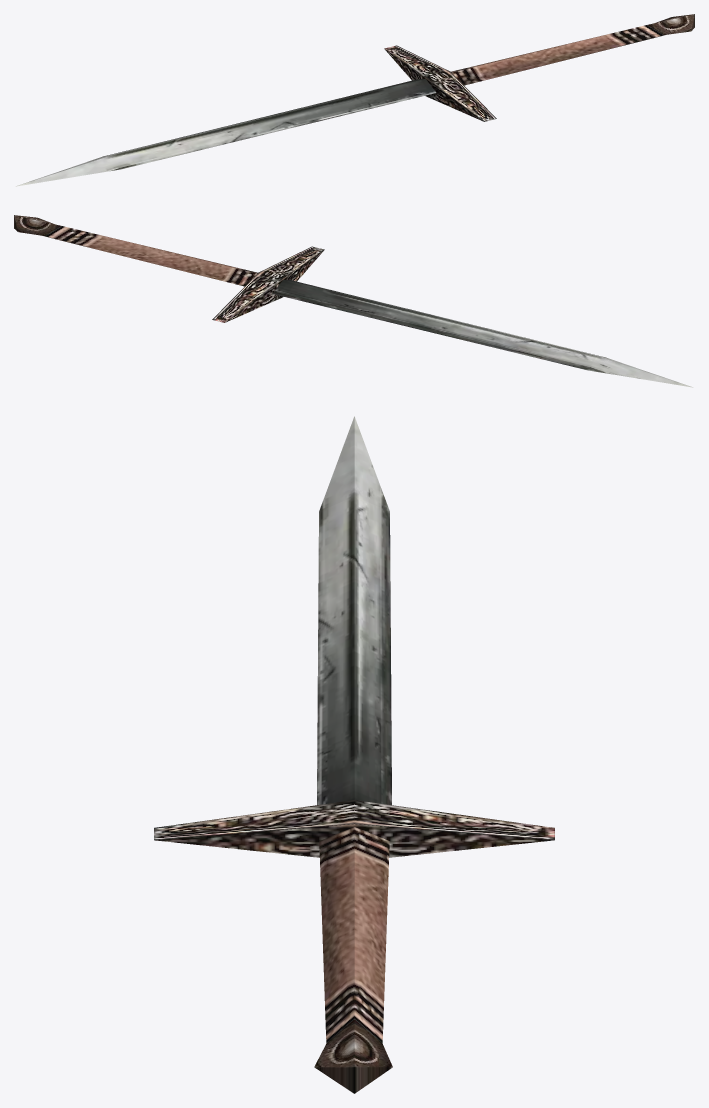
File: ITMW_005_1H_DAGGER_01.glb
The picture shows the model from 3 angles, top to bottom: view 1: azimuth 30°, elevation 25°; view 2: azimuth 150°, elevation 25°; view 3: azimuth 270°, elevation 25°; orthographic projection. The views are drawn at different scales.
Visible parts, largest first — view 1: ITMW_005_1H_DAGGER_01; view 2: ITMW_005_1H_DAGGER_01; view 3: ITMW_005_1H_DAGGER_01.
Part boxes in pixels (x1,y1,x2,y2): ITMW_005_1H_DAGGER_01: (15,14,694,186); ITMW_005_1H_DAGGER_01: (14,215,693,387); ITMW_005_1H_DAGGER_01: (154,416,554,1093).
Size of the model in its own units: 0.7999 by 0.021 by 0.204.
2 materials, 2 textured.
